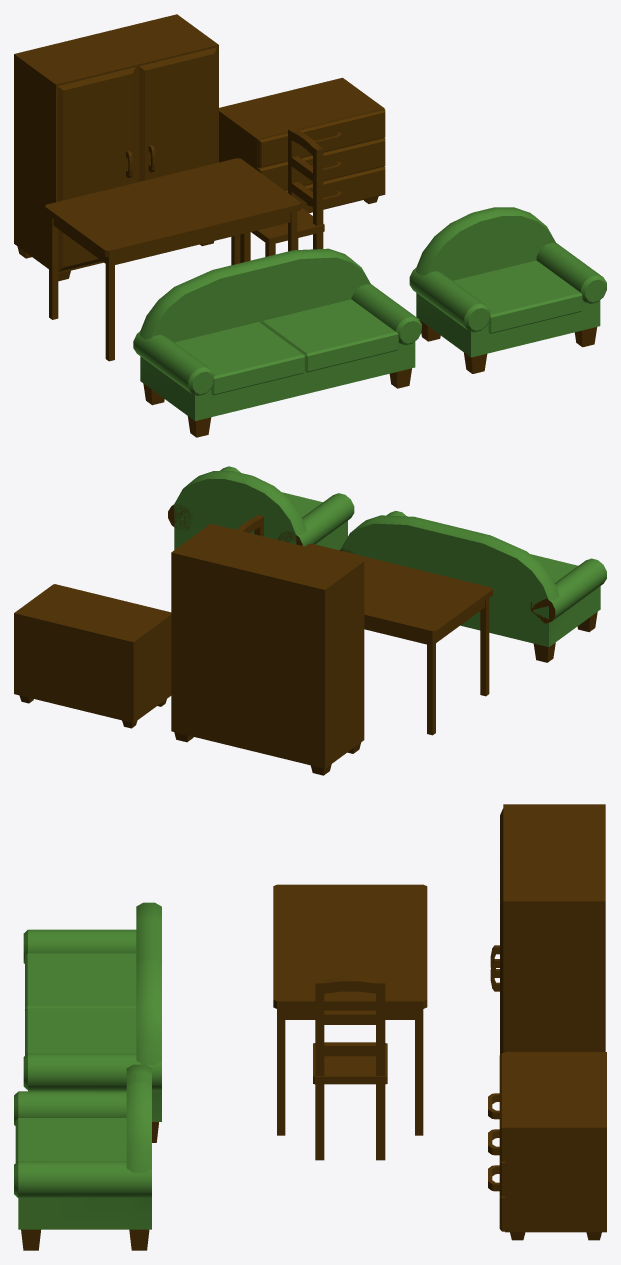
The model's file is SofaModel.FBX.
The picture shows the model from 3 angles, top to bottom: view 1: azimuth 30°, elevation 25°; view 2: azimuth 150°, elevation 25°; view 3: azimuth 270°, elevation 25°; orthographic projection. The views are drawn at different scales.
Parts seen in each view (by area): view 1: sofa, wardrobe, armchair, table, Box01, chair; view 2: wardrobe, Box01, sofa, table, armchair; view 3: wardrobe, sofa, table, Box01, armchair, chair.
Boxes of the visible parts, <box> form: sofa: <box>133,248,421,437</box>; wardrobe: <box>14,14,218,281</box>; armchair: <box>409,207,606,373</box>; table: <box>45,158,300,361</box>; Box01: <box>219,77,385,212</box>; chair: <box>240,127,324,262</box>; wardrobe: <box>171,523,364,775</box>; Box01: <box>14,584,171,728</box>; sofa: <box>339,511,606,662</box>; table: <box>305,544,492,735</box>; armchair: <box>168,466,354,550</box>; wardrobe: <box>490,804,605,1054</box>; sofa: <box>23,902,161,1142</box>; table: <box>273,884,427,1135</box>; Box01: <box>488,1052,606,1240</box>; armchair: <box>14,1064,151,1250</box>; chair: <box>313,977,387,1160</box>.
Size of the model in its own units: 229 by 105 by 232.
